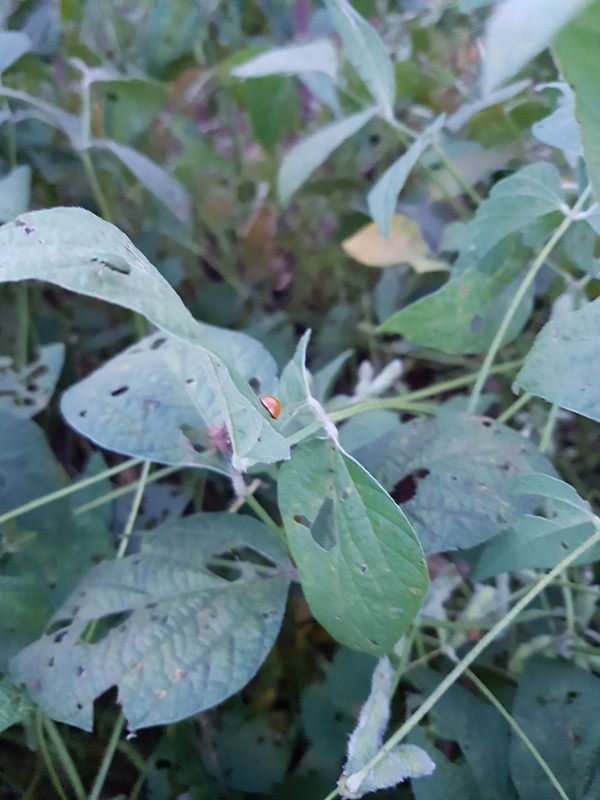Coccinellidae: (249, 387, 291, 423)
